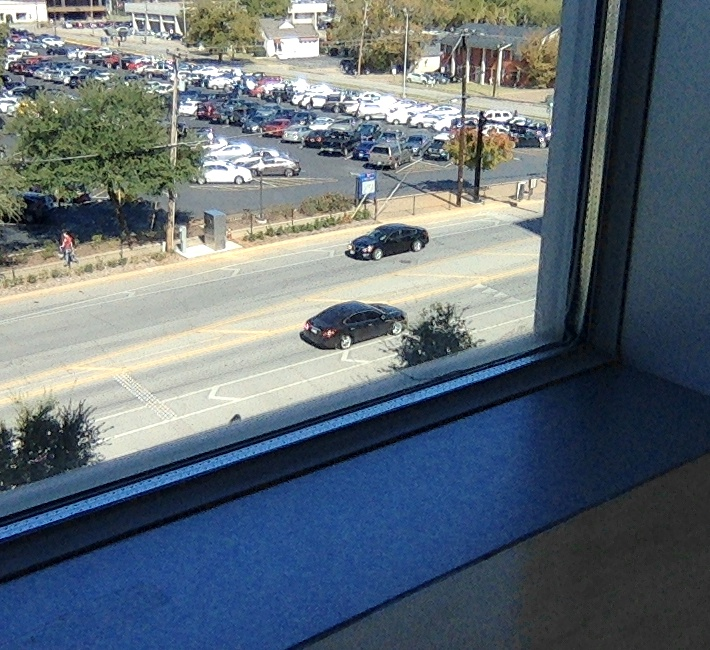car: (300, 300, 410, 350)
